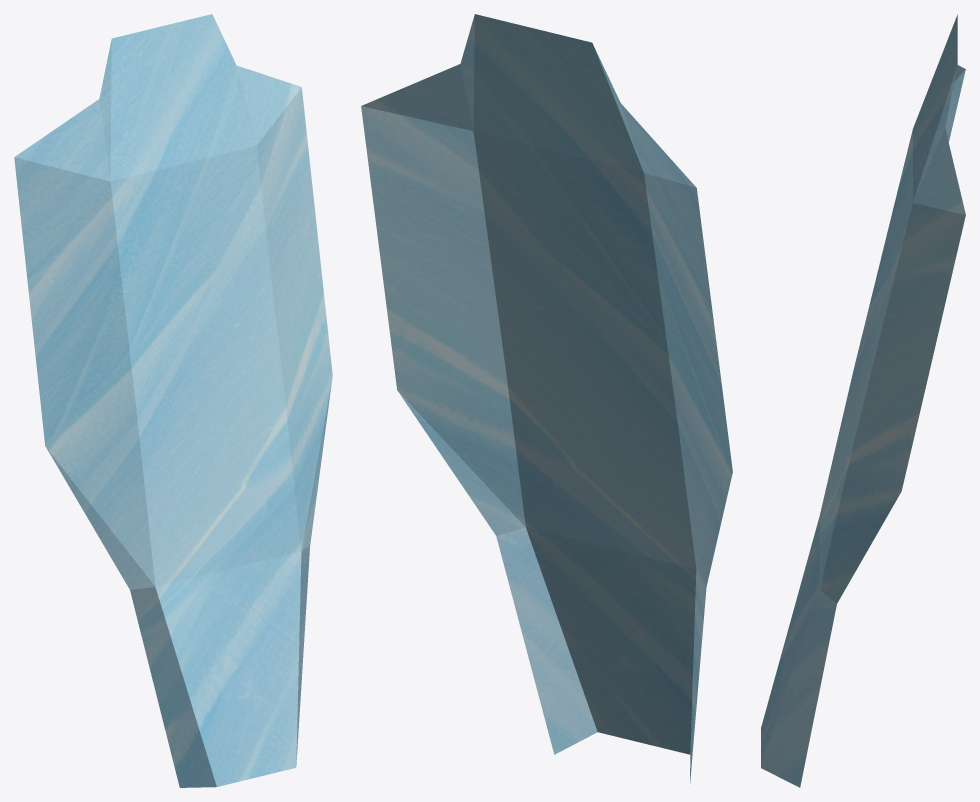
Rendered from FrozenCryoGlass2.fbx.
The picture shows the model from 3 angles, left to right: view 1: azimuth 30°, elevation 25°; view 2: azimuth 150°, elevation 25°; view 3: azimuth 270°, elevation 25°; orthographic projection. The views are drawn at different scales.
Parts seen in each view (by area): view 1: SM_Bld_Wall_Pods_Glass_01.003; view 2: SM_Bld_Wall_Pods_Glass_01.003; view 3: SM_Bld_Wall_Pods_Glass_01.003.
Part boxes in pixels (left/top/right/bottom): SM_Bld_Wall_Pods_Glass_01.003: left=14, top=14, right=332, bottom=787; SM_Bld_Wall_Pods_Glass_01.003: left=361, top=14, right=732, bottom=787; SM_Bld_Wall_Pods_Glass_01.003: left=761, top=14, right=965, bottom=787.
Size of the model in its own units: 91.49 by 210 by 54.33.
